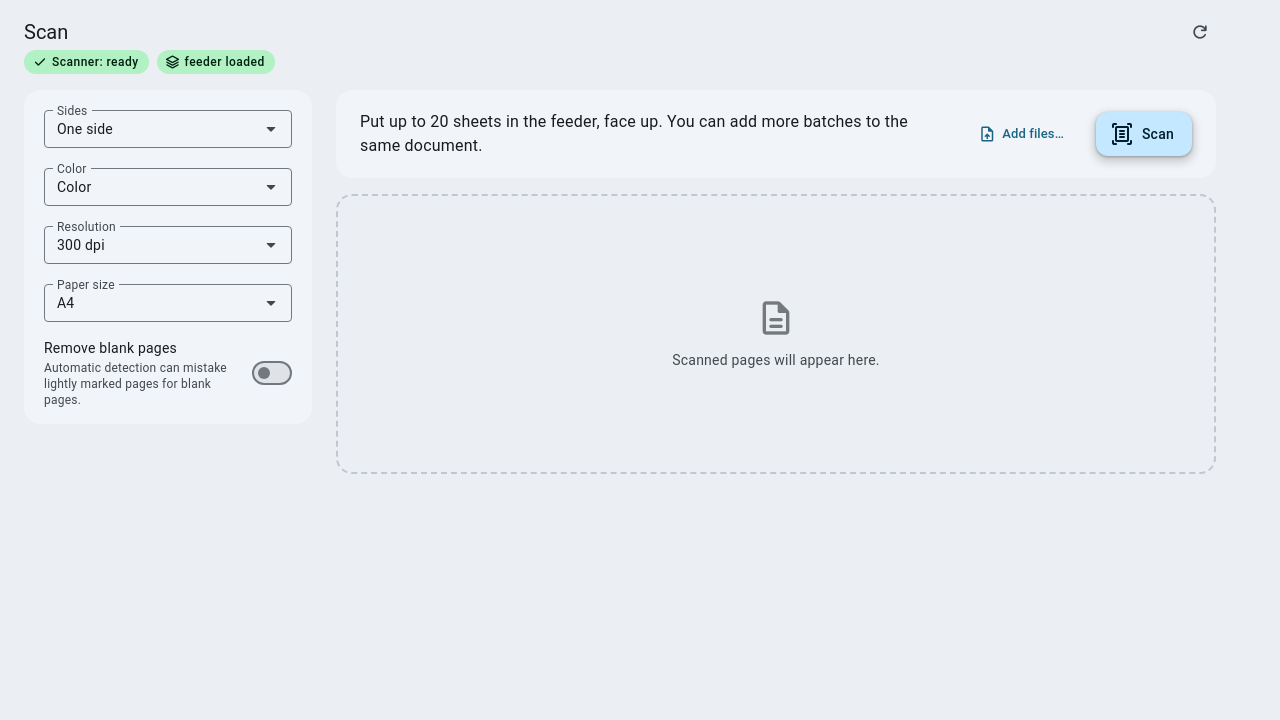
Test case: scanning documents › explains that the interrupted batch was not added when there are no earlier pages
Click the button "Scan". click: (1144, 134)
box: [1096,112,1192,156]
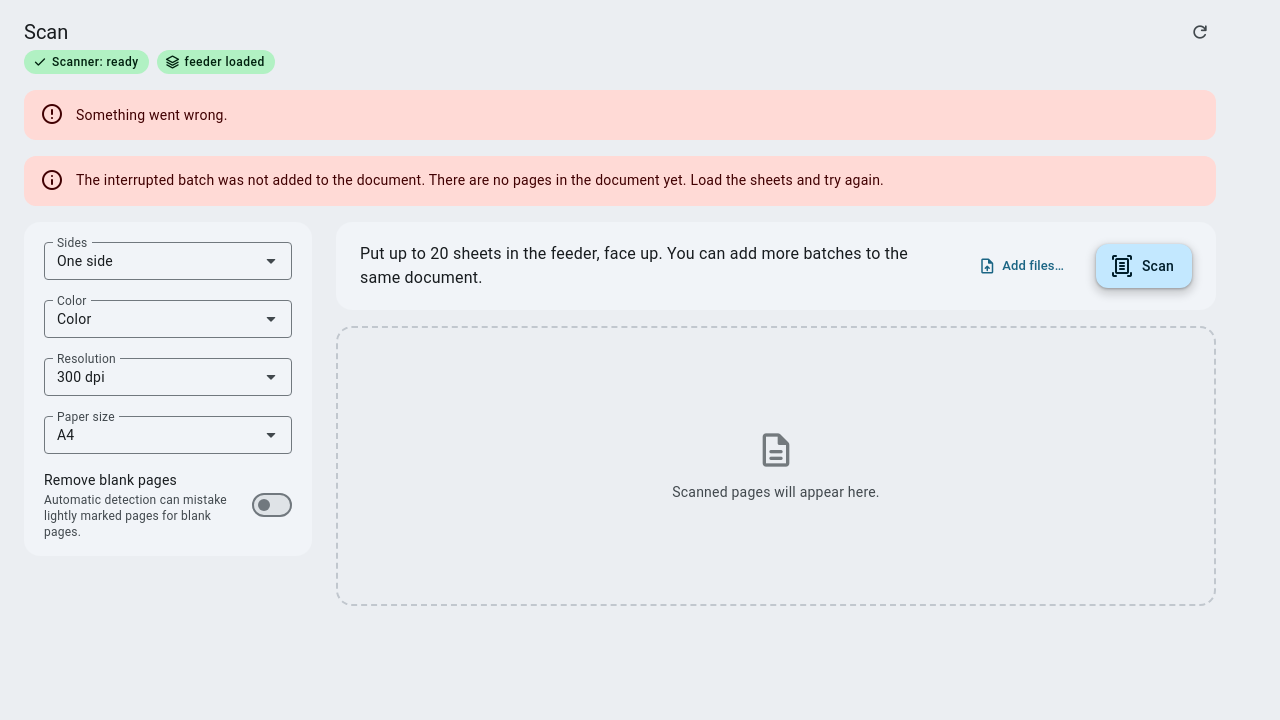
Now the text "interrupted batch was not added" shows "There are no pages in the document yet.", box [429,172,884,188]
